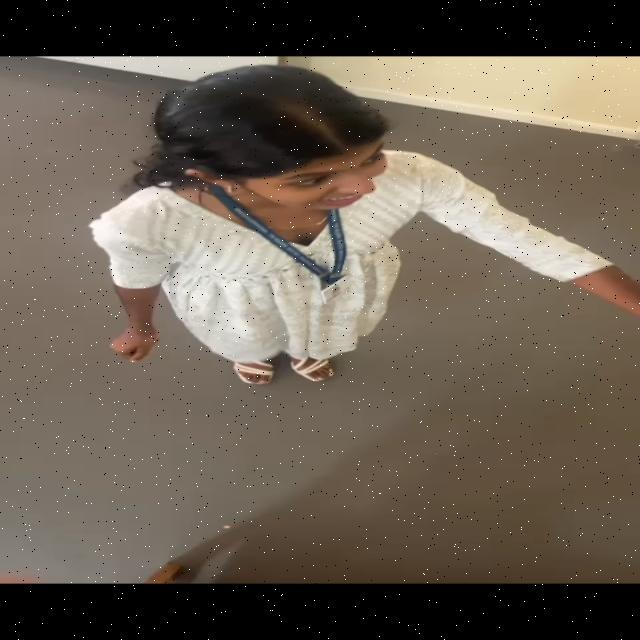humans: (83, 64, 634, 392)
